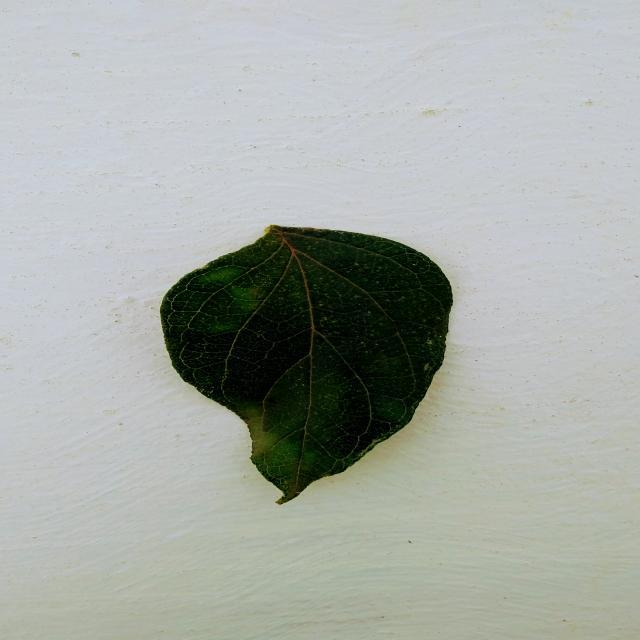leaf: (158, 223, 453, 504)
